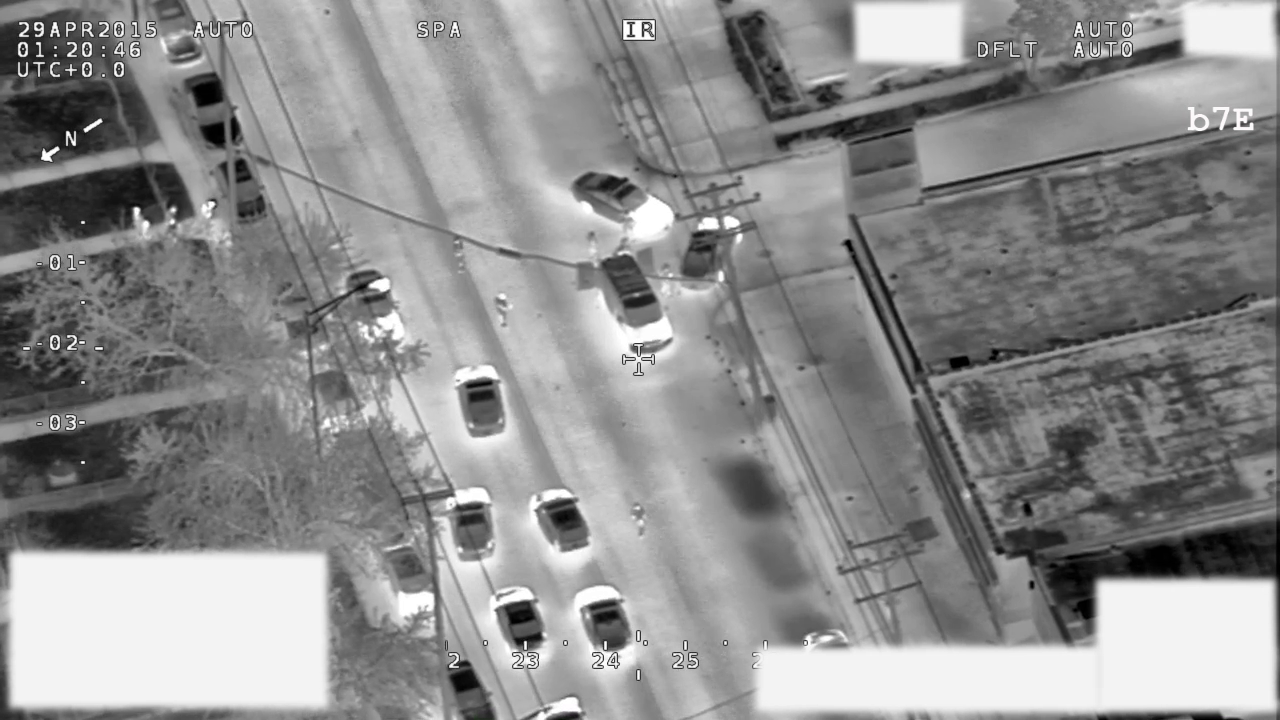vehicle: (575, 242, 678, 358), (571, 161, 680, 242), (678, 209, 749, 294), (343, 266, 412, 353), (526, 486, 597, 567), (180, 70, 249, 153), (571, 585, 639, 669), (381, 547, 445, 631), (301, 370, 376, 440), (447, 361, 513, 440), (439, 483, 501, 567), (485, 580, 552, 655), (205, 155, 270, 228), (147, 1, 204, 66)
